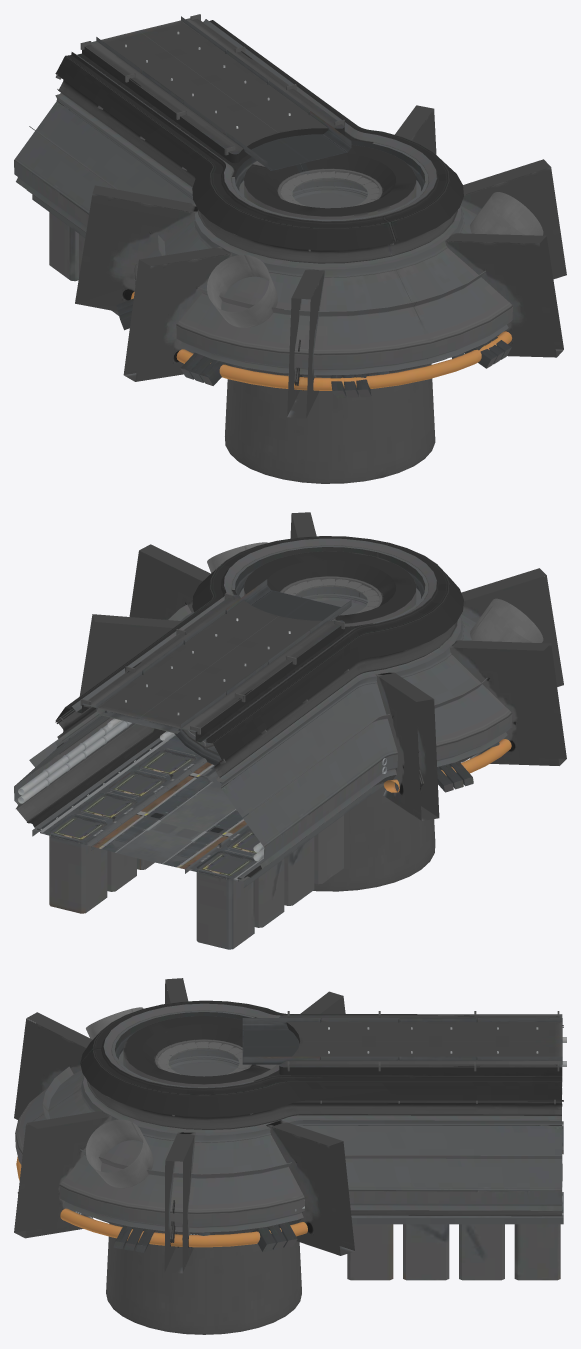
The model's file is container.glb.
3 renders of one model, top to bottom at view 1: azimuth 30°, elevation 25°; view 2: azimuth 150°, elevation 25°; view 3: azimuth 270°, elevation 25°, orthographic. The views are drawn at different scales.
Parts seen in each view (by area): view 1: Cylinder.001_Base_0, Plane_Details_Cevre_0; view 2: Cylinder.001_Base_0, Plane_Details_Cevre_0; view 3: Cylinder.001_Base_0, Plane_Details_Cevre_0.
Part boxes in pixels (x1,y1,x2,y2): Cylinder.001_Base_0: [14, 16, 512, 483]; Plane_Details_Cevre_0: [55, 14, 566, 418]; Cylinder.001_Base_0: [14, 536, 512, 949]; Plane_Details_Cevre_0: [18, 512, 566, 879]; Cylinder.001_Base_0: [15, 1000, 563, 1334]; Plane_Details_Cevre_0: [14, 978, 566, 1273].
Size of the model in its own units: 6.43 by 4 by 7.54.
2 materials, 2 textured.
